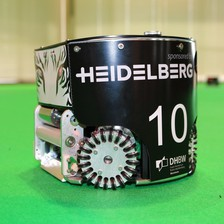robot: (31, 28, 199, 190)
